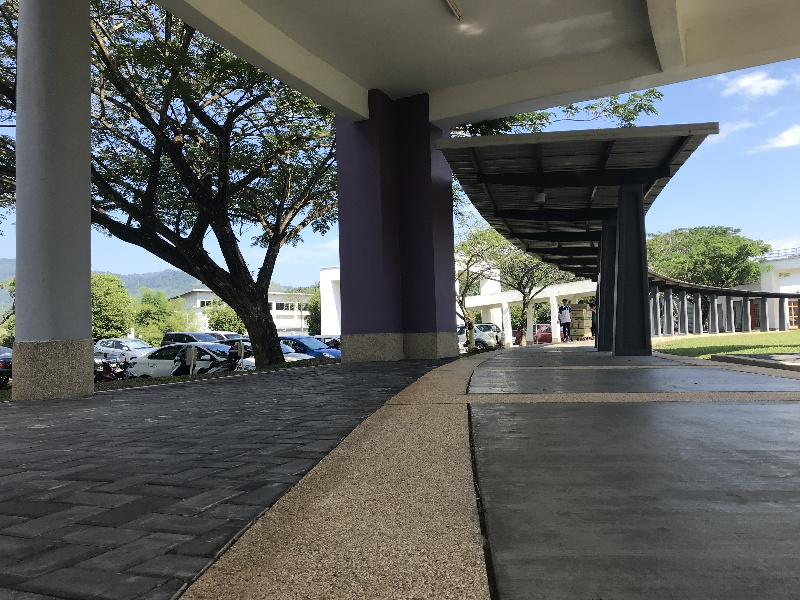Block D corridor: (4, 6, 790, 594)
pillar: (318, 83, 468, 369), (13, 1, 110, 418), (597, 199, 666, 353)
